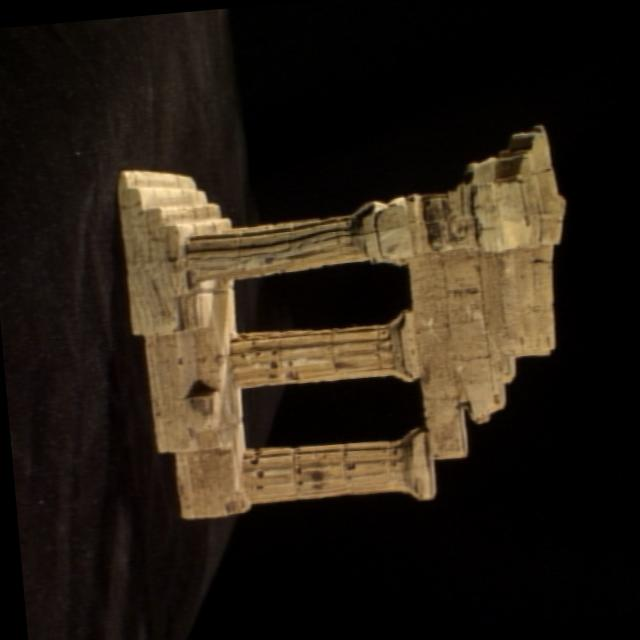Instance-Segmentation: (116, 125, 563, 515)
